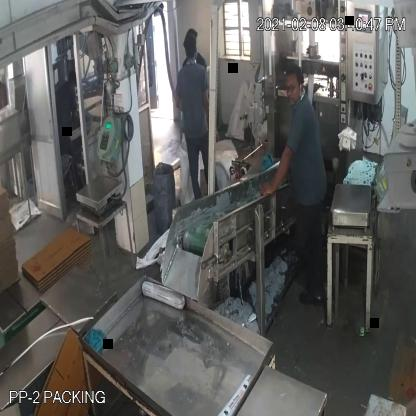no_glove: (260, 141, 298, 202)
